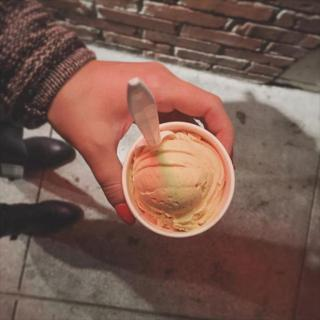Ice cream: (114, 124, 226, 224)
